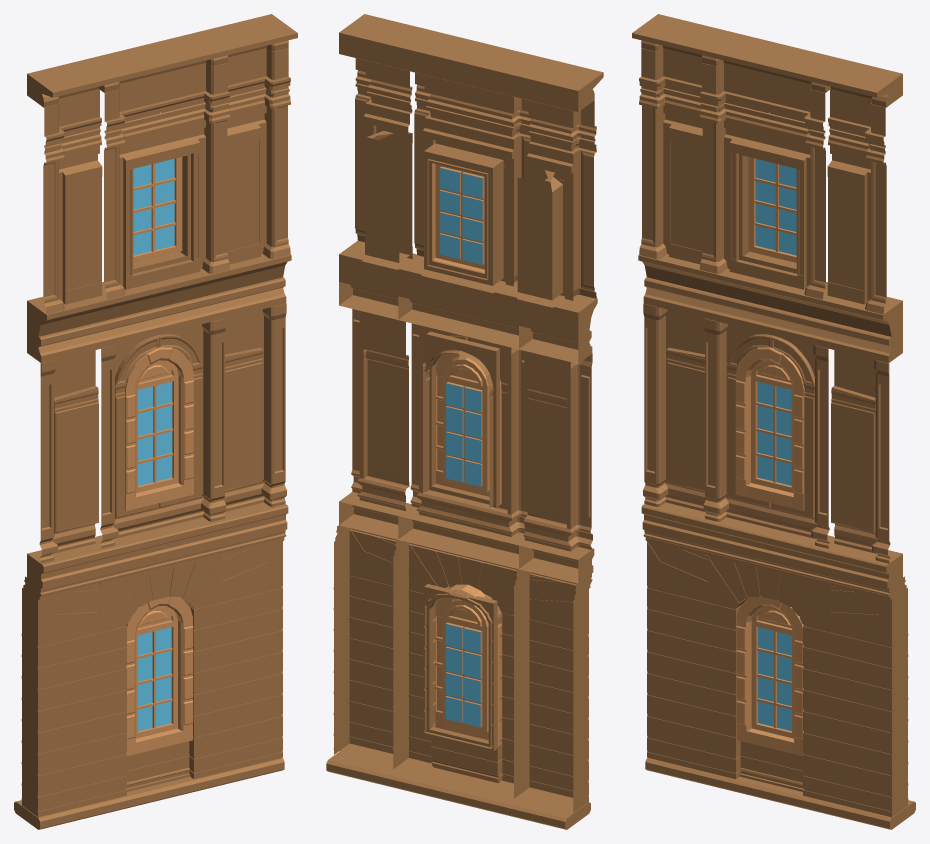
The model's file is F_Dbl_1.fbx.
3 views of the same model, side by side, from view 1: azimuth 30°, elevation 25°; view 2: azimuth 150°, elevation 25°; view 3: azimuth 330°, elevation 25° (orthographic). The views are drawn at different scales.
Parts seen in each view (by area): view 1: F_large; view 2: F_large; view 3: F_large.
Boxes of the visible parts, box(x1,y1,x2,y2) form: F_large: box(14, 14, 297, 829); F_large: box(326, 14, 603, 829); F_large: box(632, 14, 915, 829).
Bounding box in the file's own units: 6.39 × 18.63 × 1.77.
